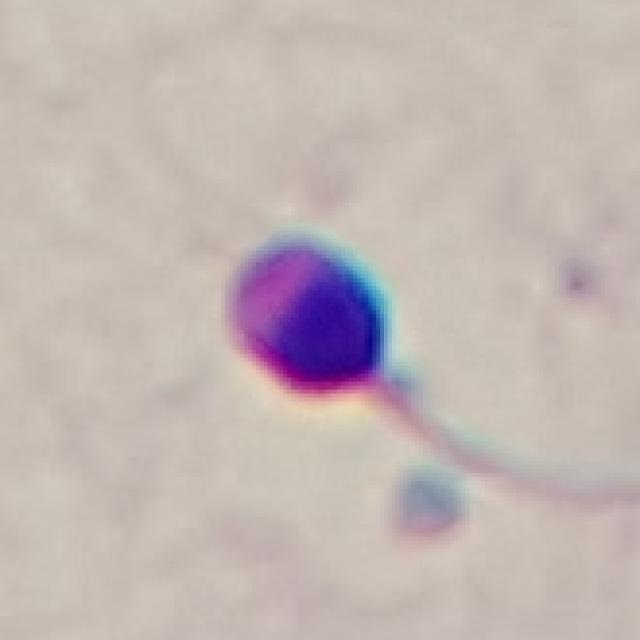normal sperm: (219, 233, 529, 482)
